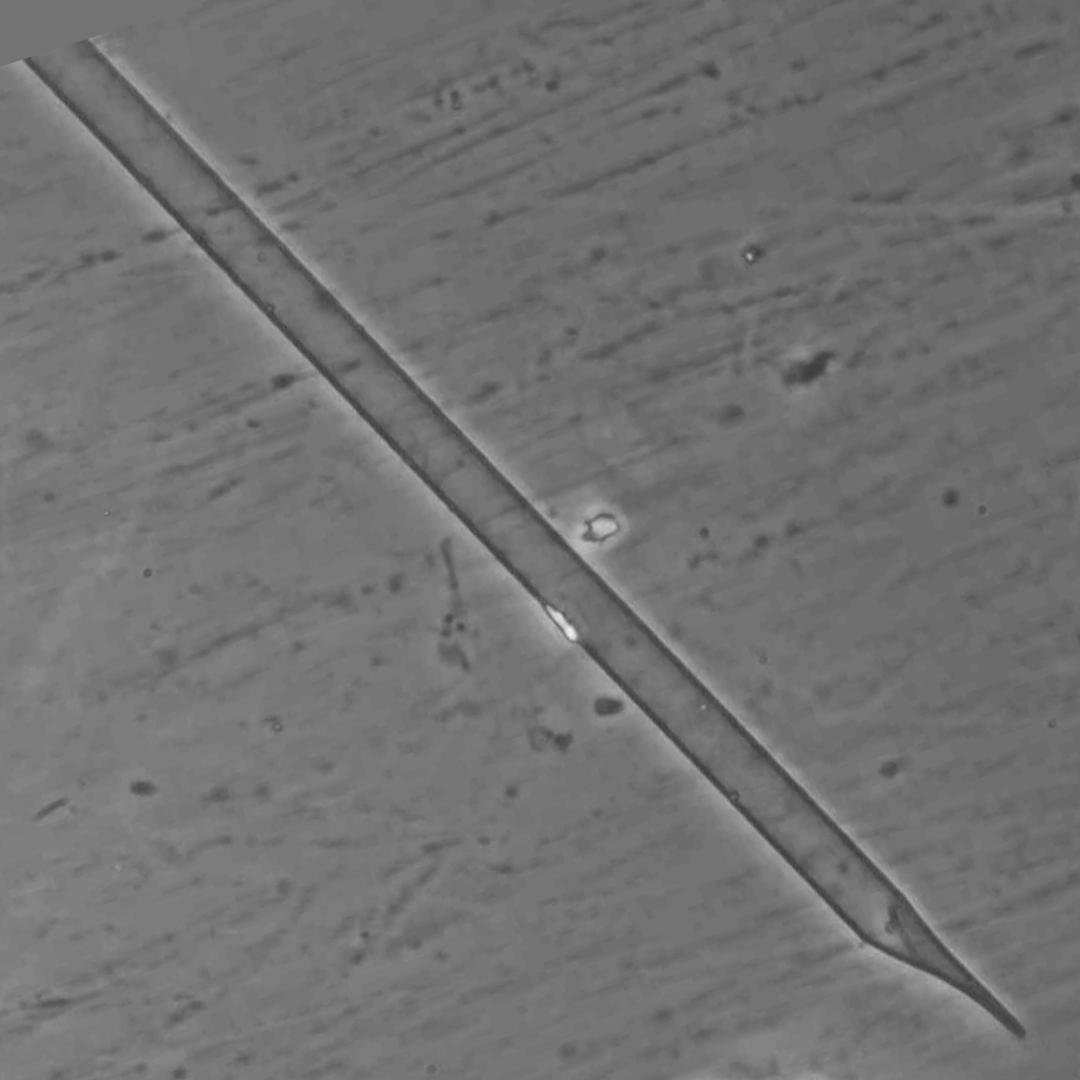proboscia_alata: (25, 39, 1026, 1039)
